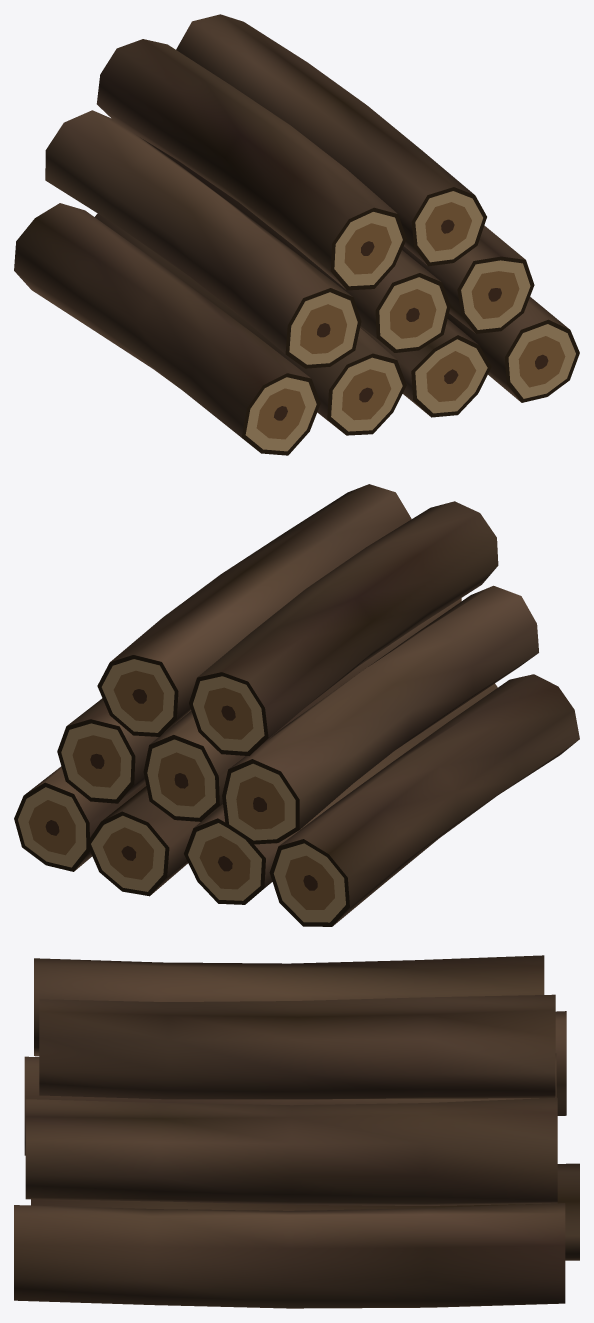
Rendered from woodpile-b.glb.
3 renders of one model, top to bottom at view 1: azimuth 30°, elevation 25°; view 2: azimuth 150°, elevation 25°; view 3: azimuth 270°, elevation 25°, orthographic. The views are drawn at different scales.
Visible parts, largest first — view 1: woodpile-b; view 2: woodpile-b; view 3: woodpile-b.
Part boxes in pixels (bbox=[...]): woodpile-b: bbox=[14, 14, 579, 455]; woodpile-b: bbox=[14, 484, 579, 926]; woodpile-b: bbox=[14, 955, 579, 1308].
Size of the model in its own units: 0.5345 by 0.3599 by 0.7162.
